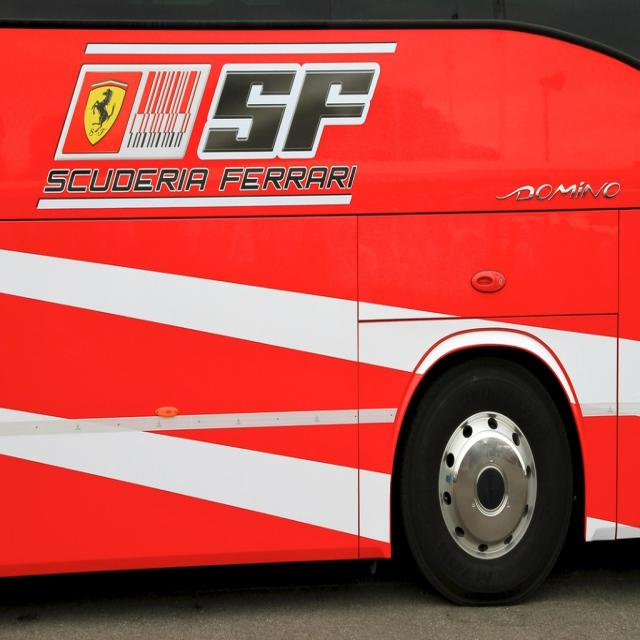ferrari: (85, 80, 129, 149)
